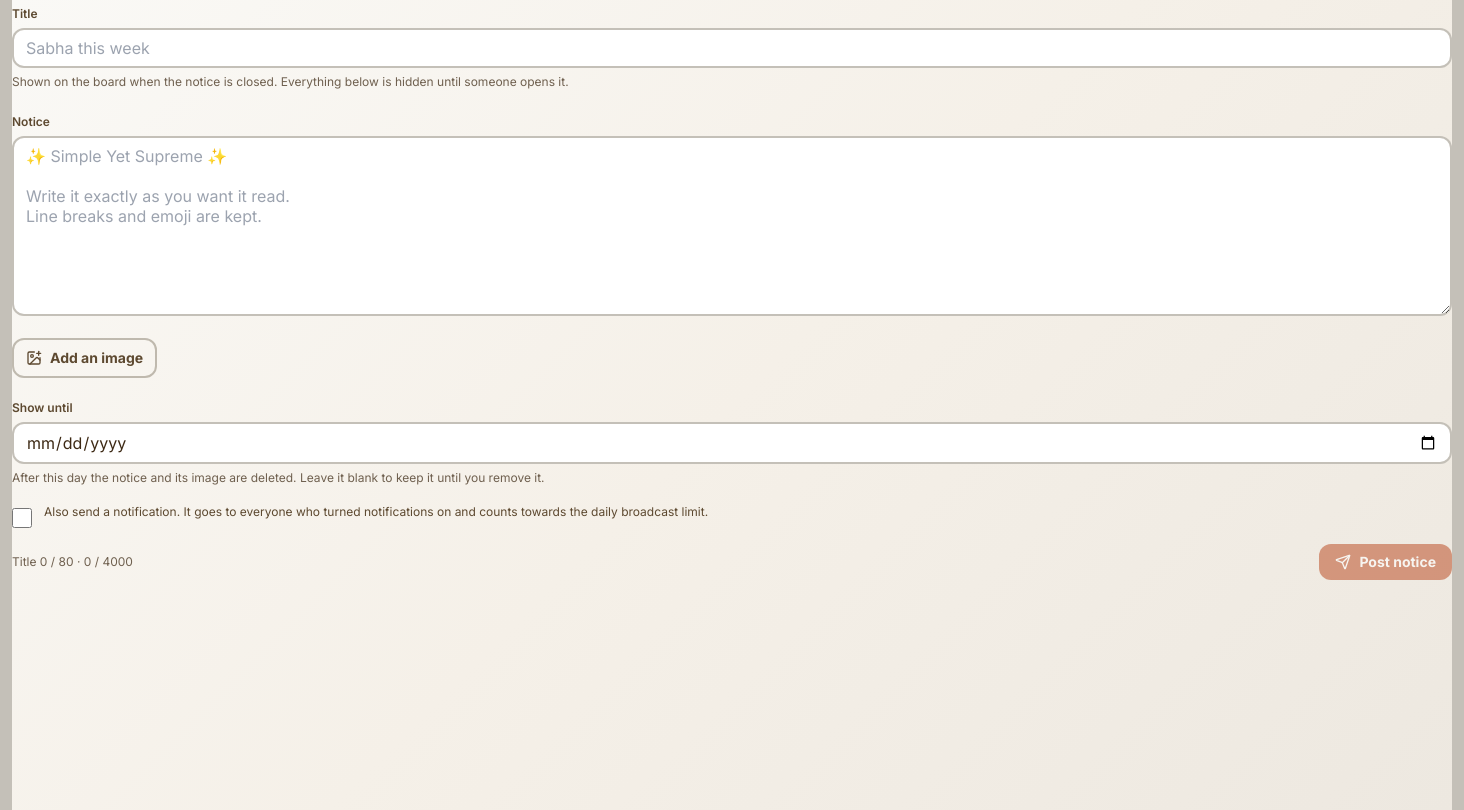
Test: the title field › posts once both are filled in
Type "Sabha moved" into the field labelled "Title" at {"x": 732, "y": 48}, box [12,28,1452,68]
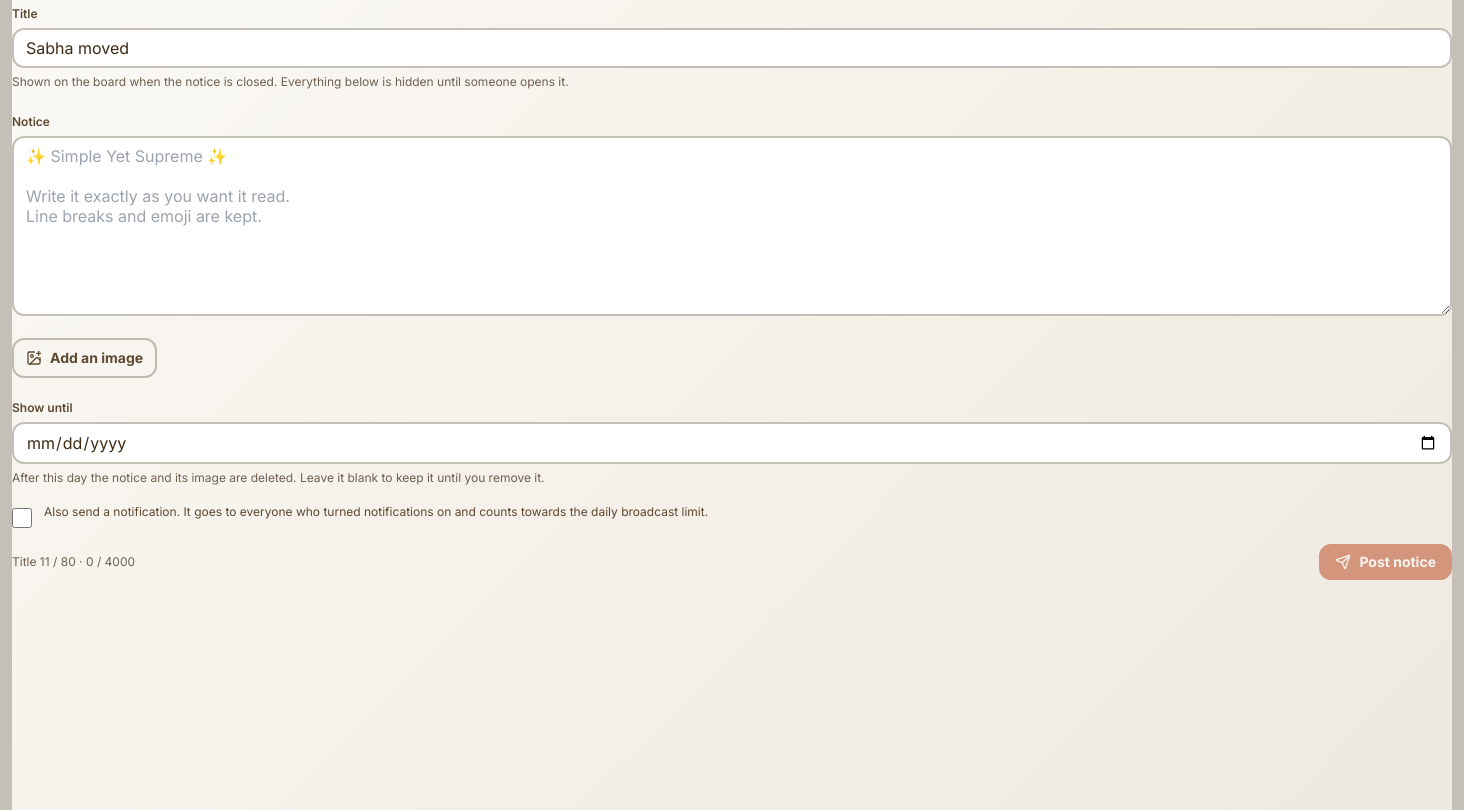
Replace the text in the text box labelled "Notice" with "x" at {"x": 732, "y": 226}, box [12,136,1452,316]
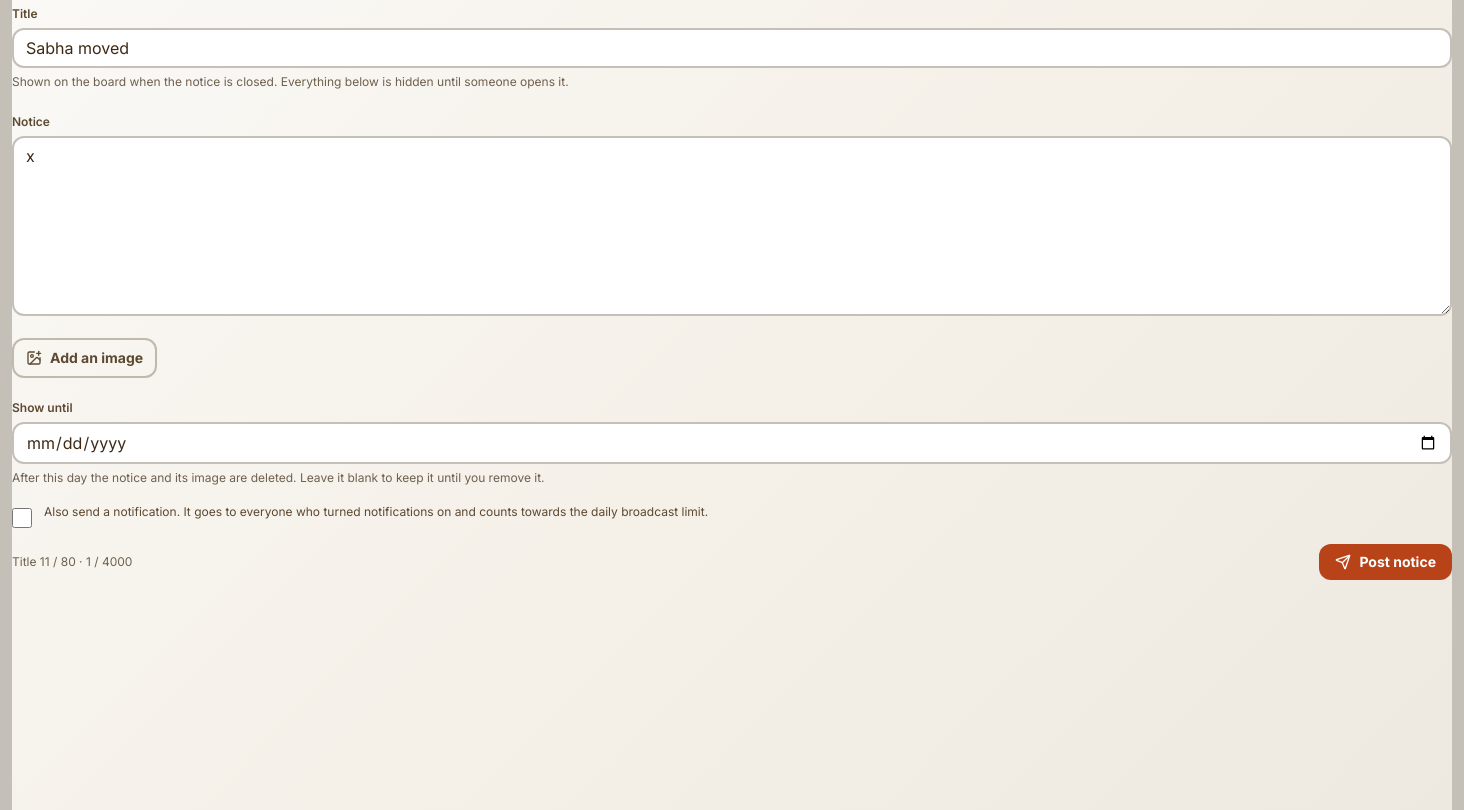
Check: the button "Post notice" is enabled, box [1319,544,1452,580]
